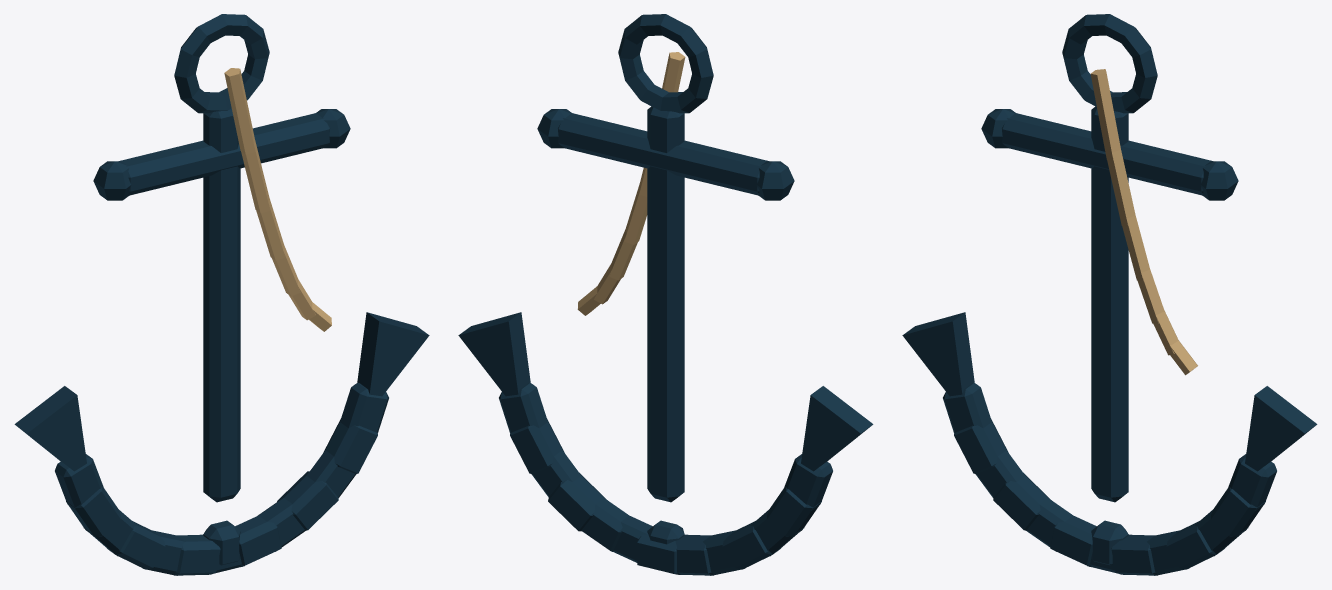
Rendered from anchor_wall_decor.glb.
3 renders of one model, left to right at view 1: azimuth 30°, elevation 25°; view 2: azimuth 150°, elevation 25°; view 3: azimuth 330°, elevation 25°, orthographic.
Visible parts, largest first — view 1: anchor_wall_decor; view 2: anchor_wall_decor; view 3: anchor_wall_decor.
Part boxes in pixels (box(x1,y1,x2,y2)): anchor_wall_decor: box(14, 14, 429, 575); anchor_wall_decor: box(458, 14, 873, 575); anchor_wall_decor: box(902, 14, 1317, 575).
Size of the model in its own units: 0.64 by 0.8415 by 0.0714.
